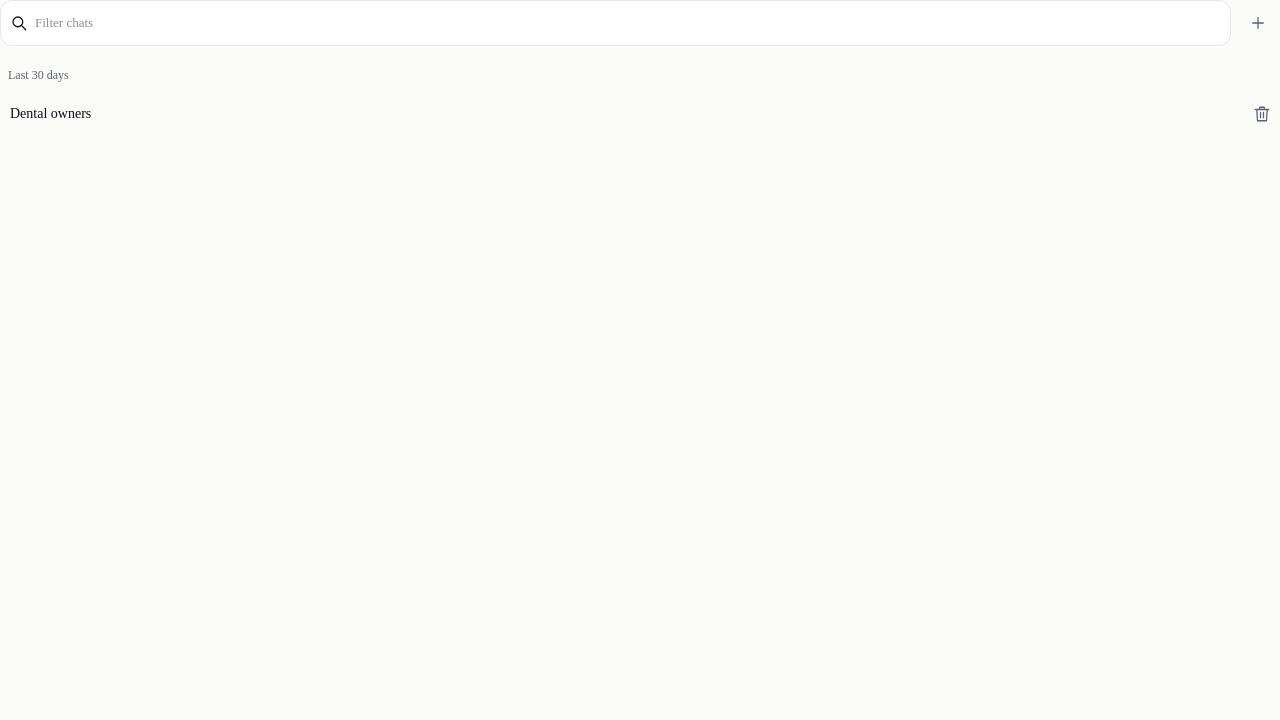
Test: failed deletion keeps the chat and explains why it cannot be deleted
The image size is (1280, 720).
Click the button named "Delete chat: Dental owners" at {"x": 1262, "y": 114}, box [1244,92,1279,136]
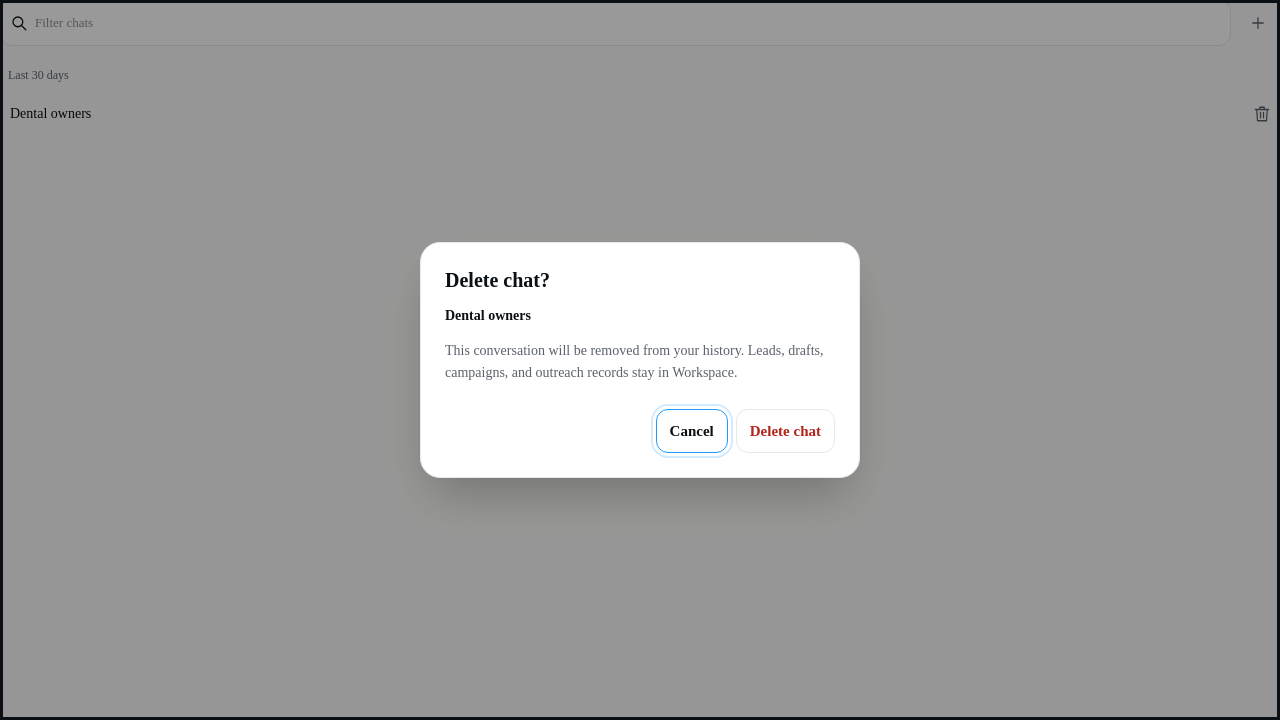
Click the button "Delete chat" at {"x": 785, "y": 431}, box [736,409,835,453]
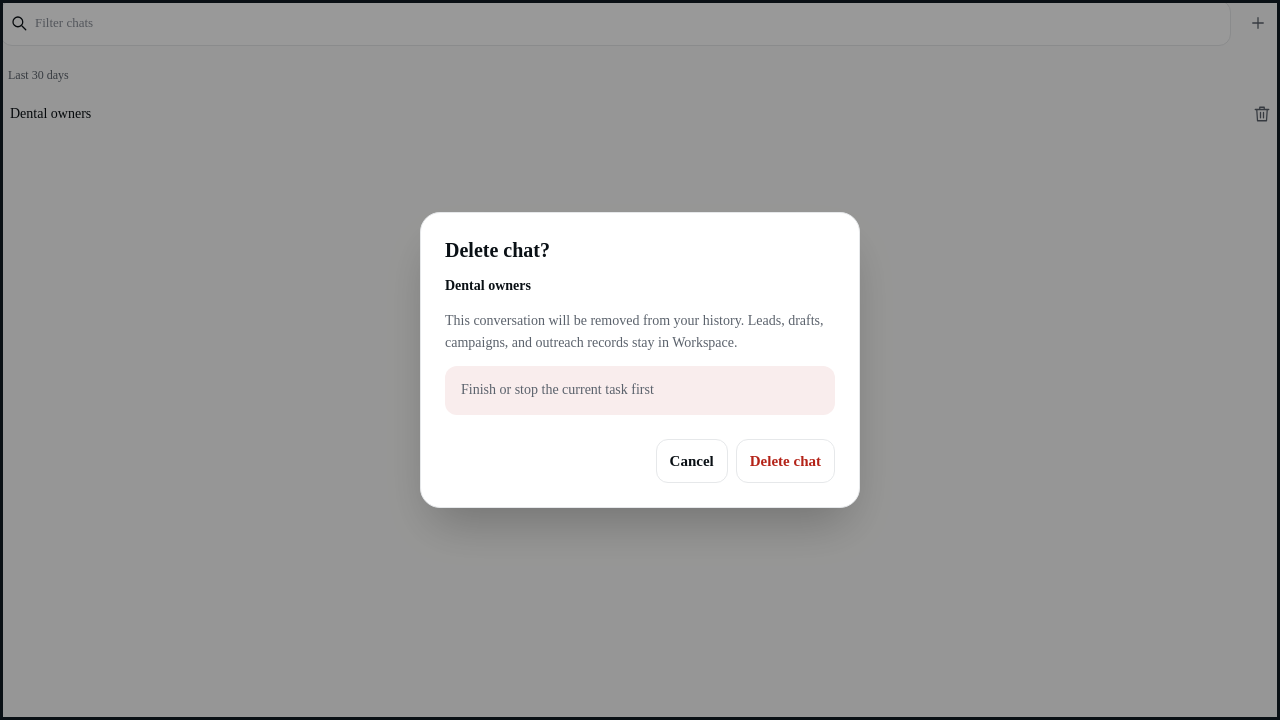
expect the link "Dental owners" is shown: met, box [10,106,91,121]
expect the message reads "Finish or stop the current task first": met, box [461,382,654,397]
